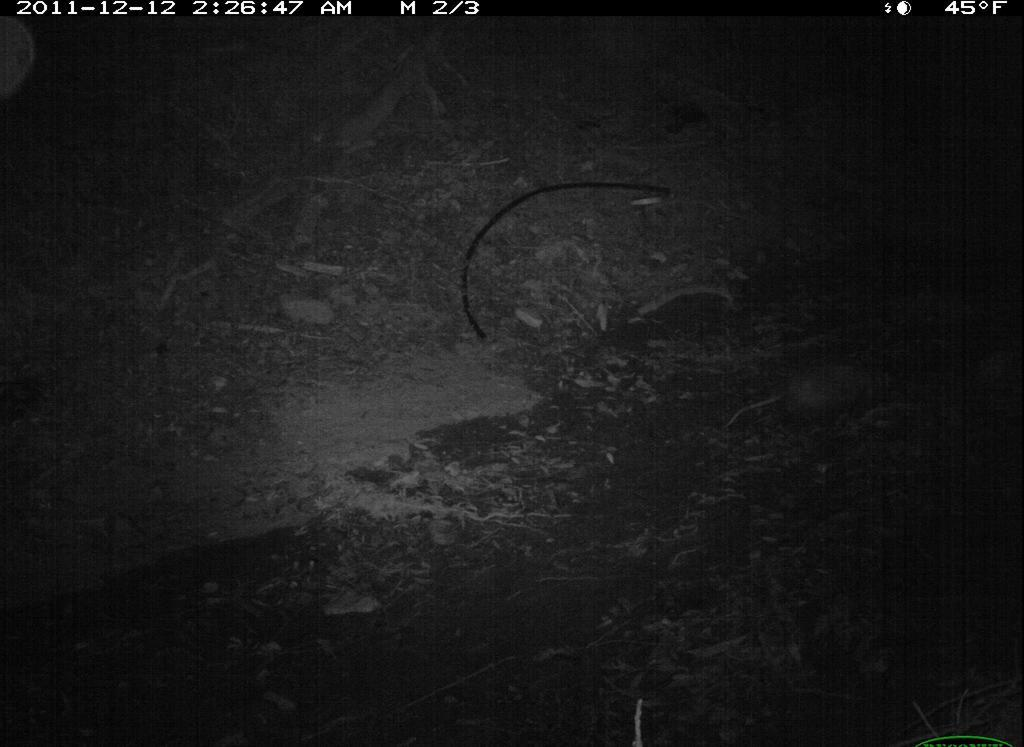opossum: (735, 364, 940, 438)
